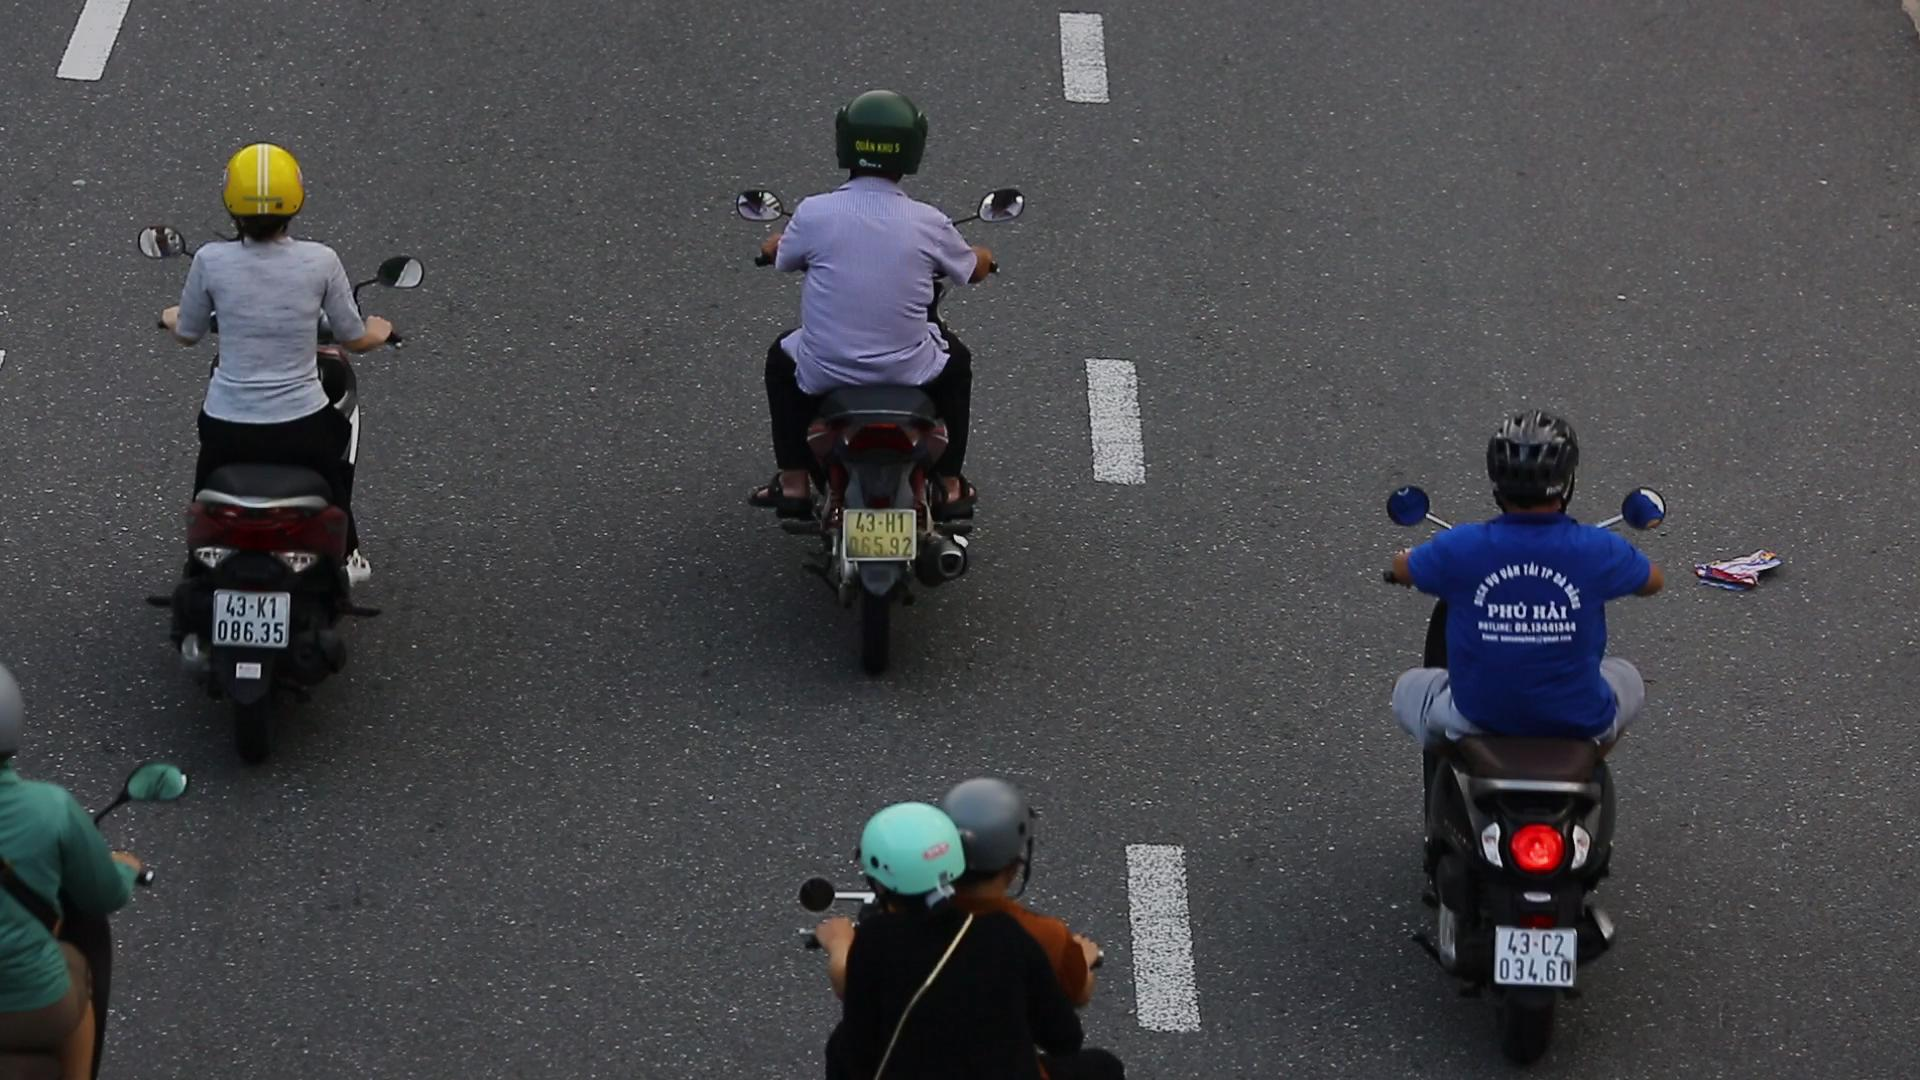motobike: (1366, 385, 1664, 1079), (131, 144, 419, 771), (729, 84, 1030, 679)
